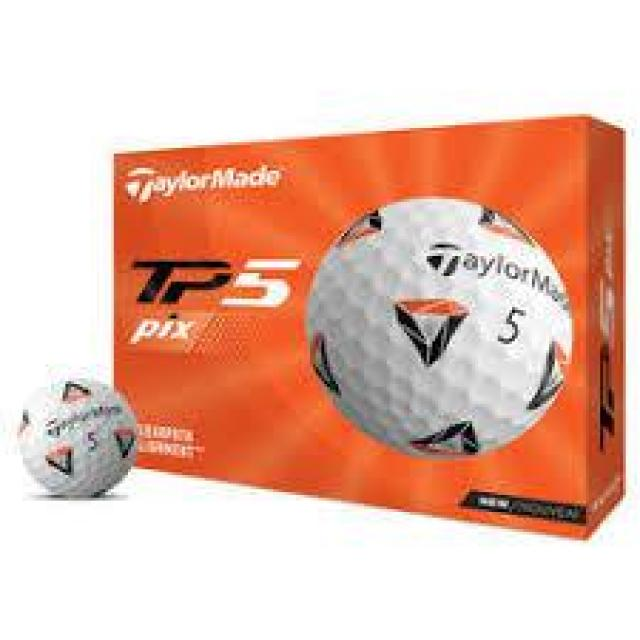ball: (8, 379, 157, 506)
